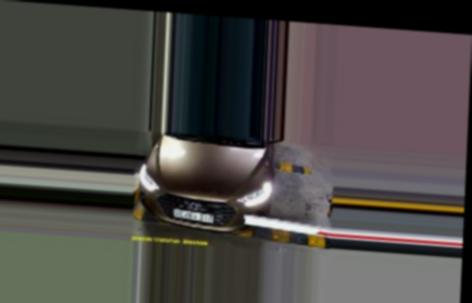License_Plate: (173, 207, 213, 223)
